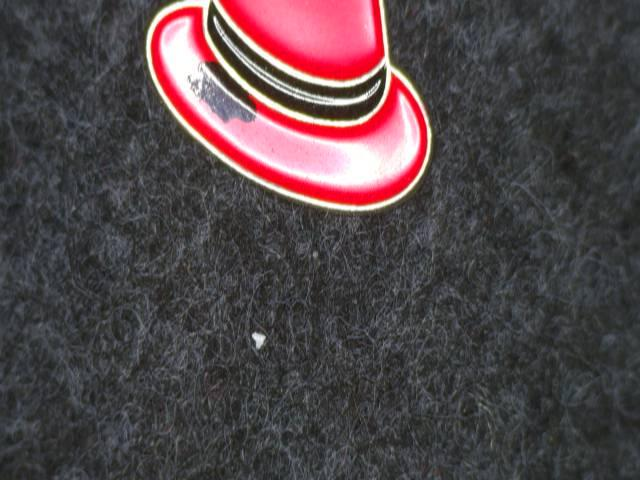Red-Hat: (104, 0, 446, 245)
Scratch: (175, 52, 262, 139)
